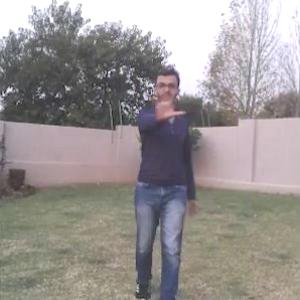follow_hand: (150, 82, 187, 123)
